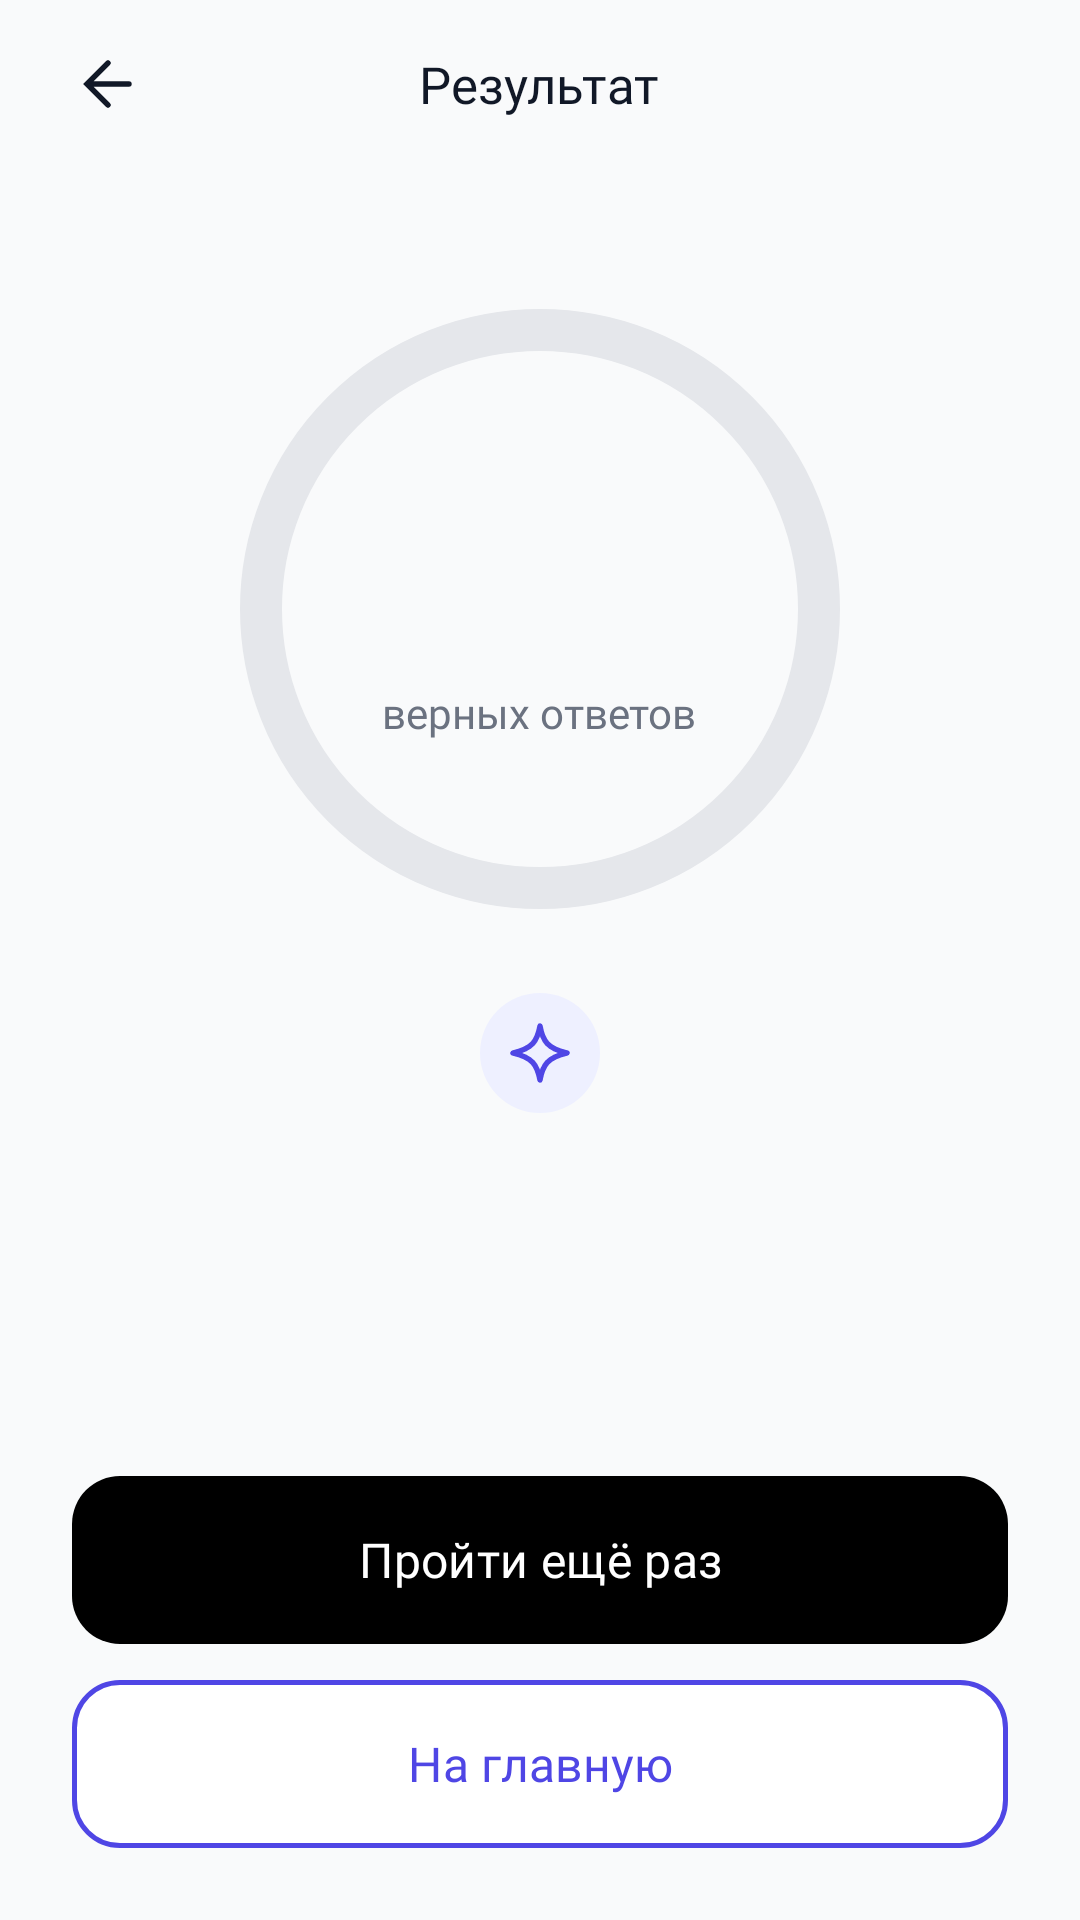

Locate icon controls on the screen. Image size 1080*1920, boxes as (x1, y1, x2, y2).
sparkle badge: (480, 993, 600, 1113)
Назад: (83, 60, 132, 108)
